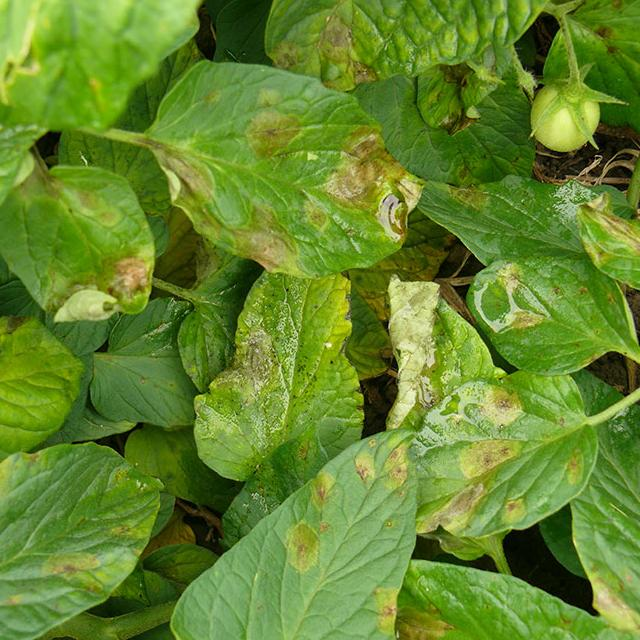Tomato leaf late blight: (106, 382, 444, 640), (147, 45, 419, 293), (207, 251, 399, 513), (384, 357, 618, 551), (0, 125, 167, 361), (0, 425, 169, 640), (461, 247, 640, 387), (0, 299, 95, 488), (562, 178, 640, 300)
